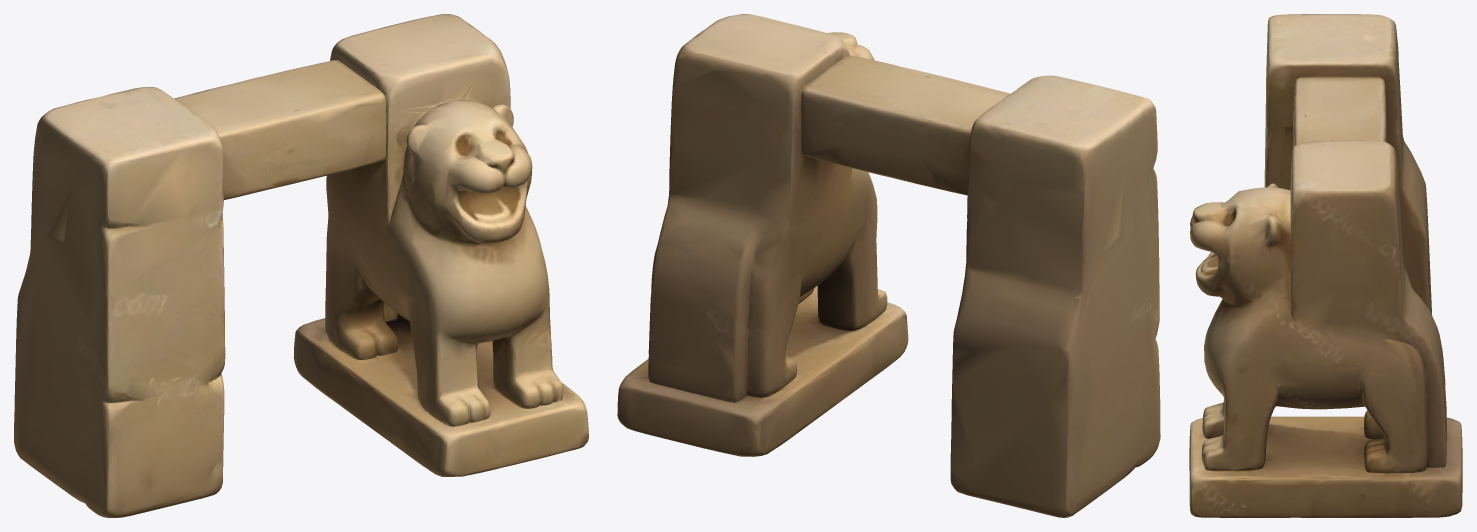
The model's file is lion_gate_pbr.glb.
The picture shows the model from 3 angles, left to right: view 1: azimuth 30°, elevation 25°; view 2: azimuth 150°, elevation 25°; view 3: azimuth 270°, elevation 25°; orthographic projection. The views are drawn at different scales.
Visible parts, largest first — view 1: model; view 2: model; view 3: model.
Part boxes in pixels (x1=…): model: x1=14, y1=14, x2=588, y2=517; model: x1=617, y1=14, x2=1160, y2=517; model: x1=1189, y1=14, x2=1462, y2=517.
Size of the model in its own units: 1.88 by 1.46 by 1.14.
Materials: 1 (1 with a texture image).
